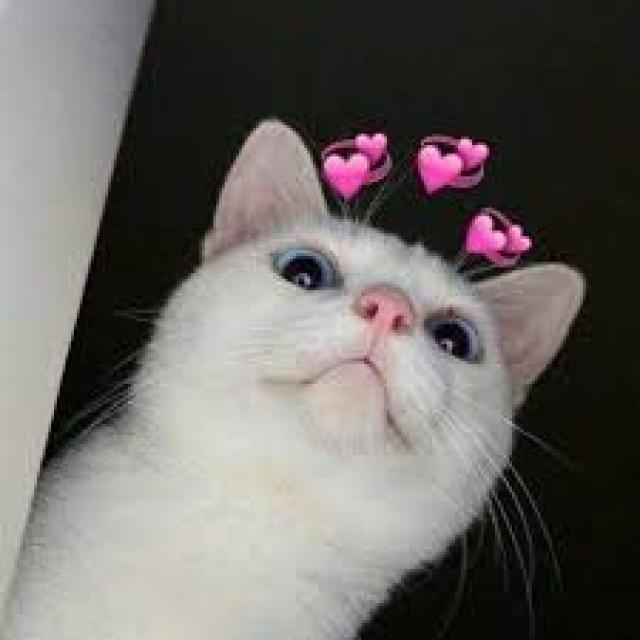Cat: (0, 116, 591, 639)
